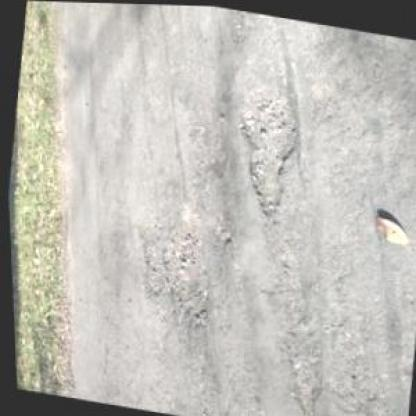pothole: (221, 78, 305, 219), (146, 201, 218, 338), (124, 207, 170, 301), (208, 218, 236, 249)
